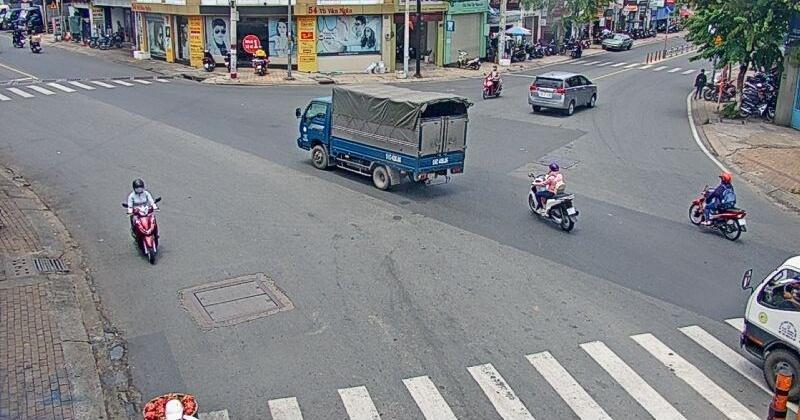xe may: (685, 171, 749, 241), (526, 165, 579, 231), (127, 172, 161, 264), (483, 61, 504, 101)
xe tai: (301, 86, 468, 198)
